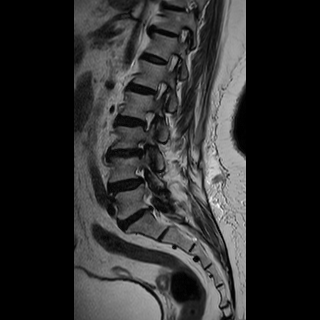LFS0: (146, 73, 171, 106), (136, 105, 161, 134)
LFS3: (133, 135, 156, 163)
